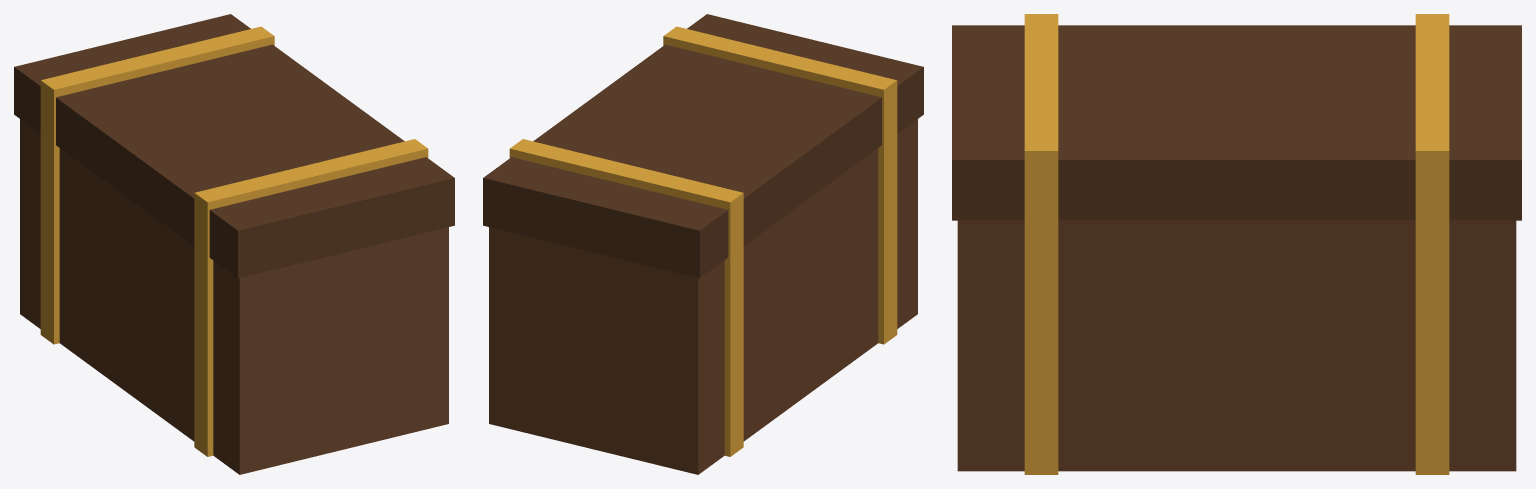
File: trunk.glb
The picture shows the model from 3 angles, left to right: view 1: azimuth 30°, elevation 25°; view 2: azimuth 150°, elevation 25°; view 3: azimuth 270°, elevation 25°; orthographic projection. The views are drawn at different scales.
Visible parts, largest first — view 1: Box1, Box2, Box3, Box4; view 2: Box1, Box2, Box3, Box4; view 3: Box1, Box2, Box3, Box4.
Part boxes in pixels (<box>): Box1: <box>20,119,448,474</box>; Box2: <box>14,14,454,278</box>; Box3: <box>40,26,274,344</box>; Box4: <box>194,139,428,456</box>; Box1: <box>489,119,917,474</box>; Box2: <box>483,14,923,278</box>; Box3: <box>509,139,743,456</box>; Box4: <box>663,26,897,344</box>; Box1: <box>957,220,1516,471</box>; Box2: <box>952,25,1521,220</box>; Box3: <box>1415,14,1449,474</box>; Box4: <box>1024,14,1058,474</box>.
Bounding box in the file's own units: 0.58 × 0.64 × 1.02.
